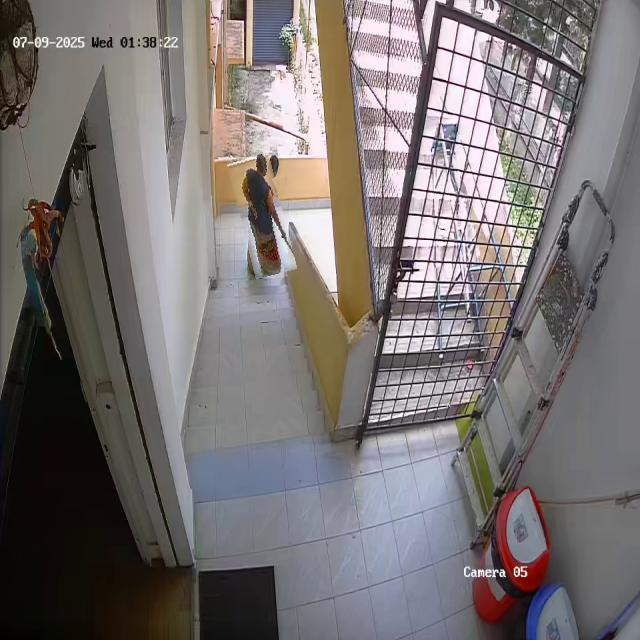person: (233, 152, 290, 278)
